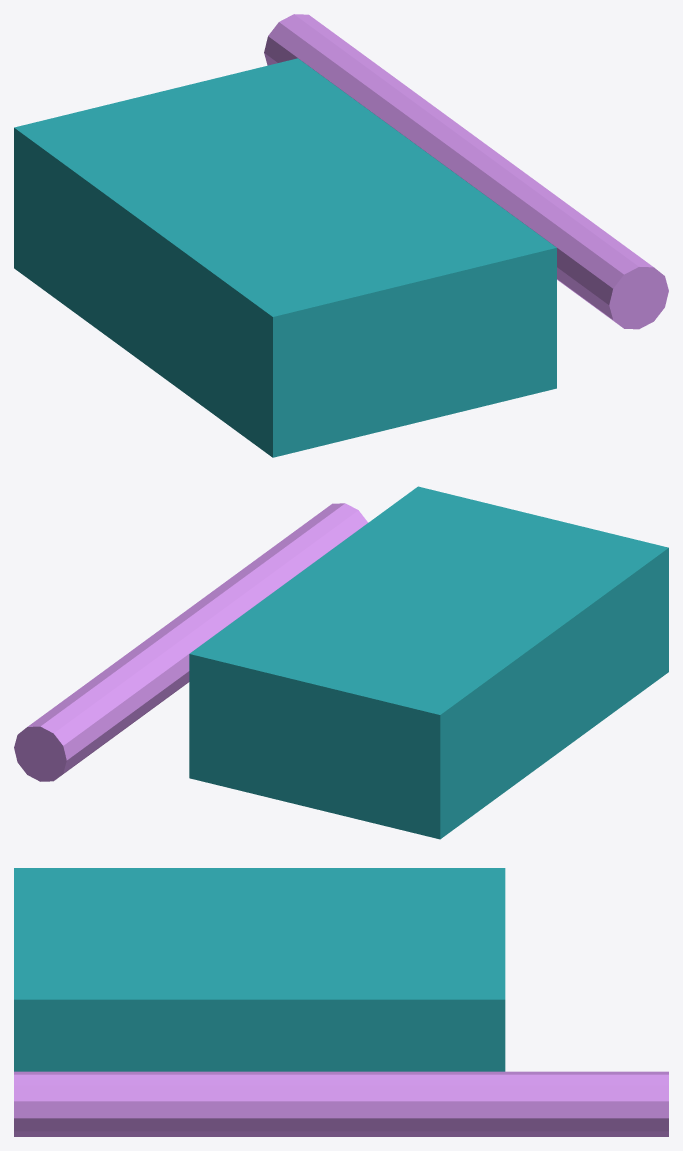
File: ev-charger.glb
3 renders of one model, top to bottom at view 1: azimuth 30°, elevation 25°; view 2: azimuth 150°, elevation 25°; view 3: azimuth 270°, elevation 25°, orthographic. The views are drawn at different scales.
Visible parts, largest first — view 1: world; view 2: world; view 3: world.
Boxes of the visible parts, box(x1,y1,x2,y2) form: world: box(14, 14, 668, 457); world: box(14, 486, 668, 839); world: box(14, 868, 668, 1136).
Size of the model in its own units: 0.53 by 0.18 by 0.8.
